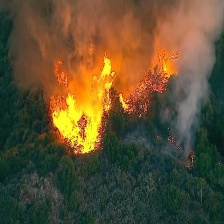fire: (49, 60, 123, 150), (156, 52, 176, 74)
smoke: (7, 2, 222, 80), (179, 63, 205, 154)
